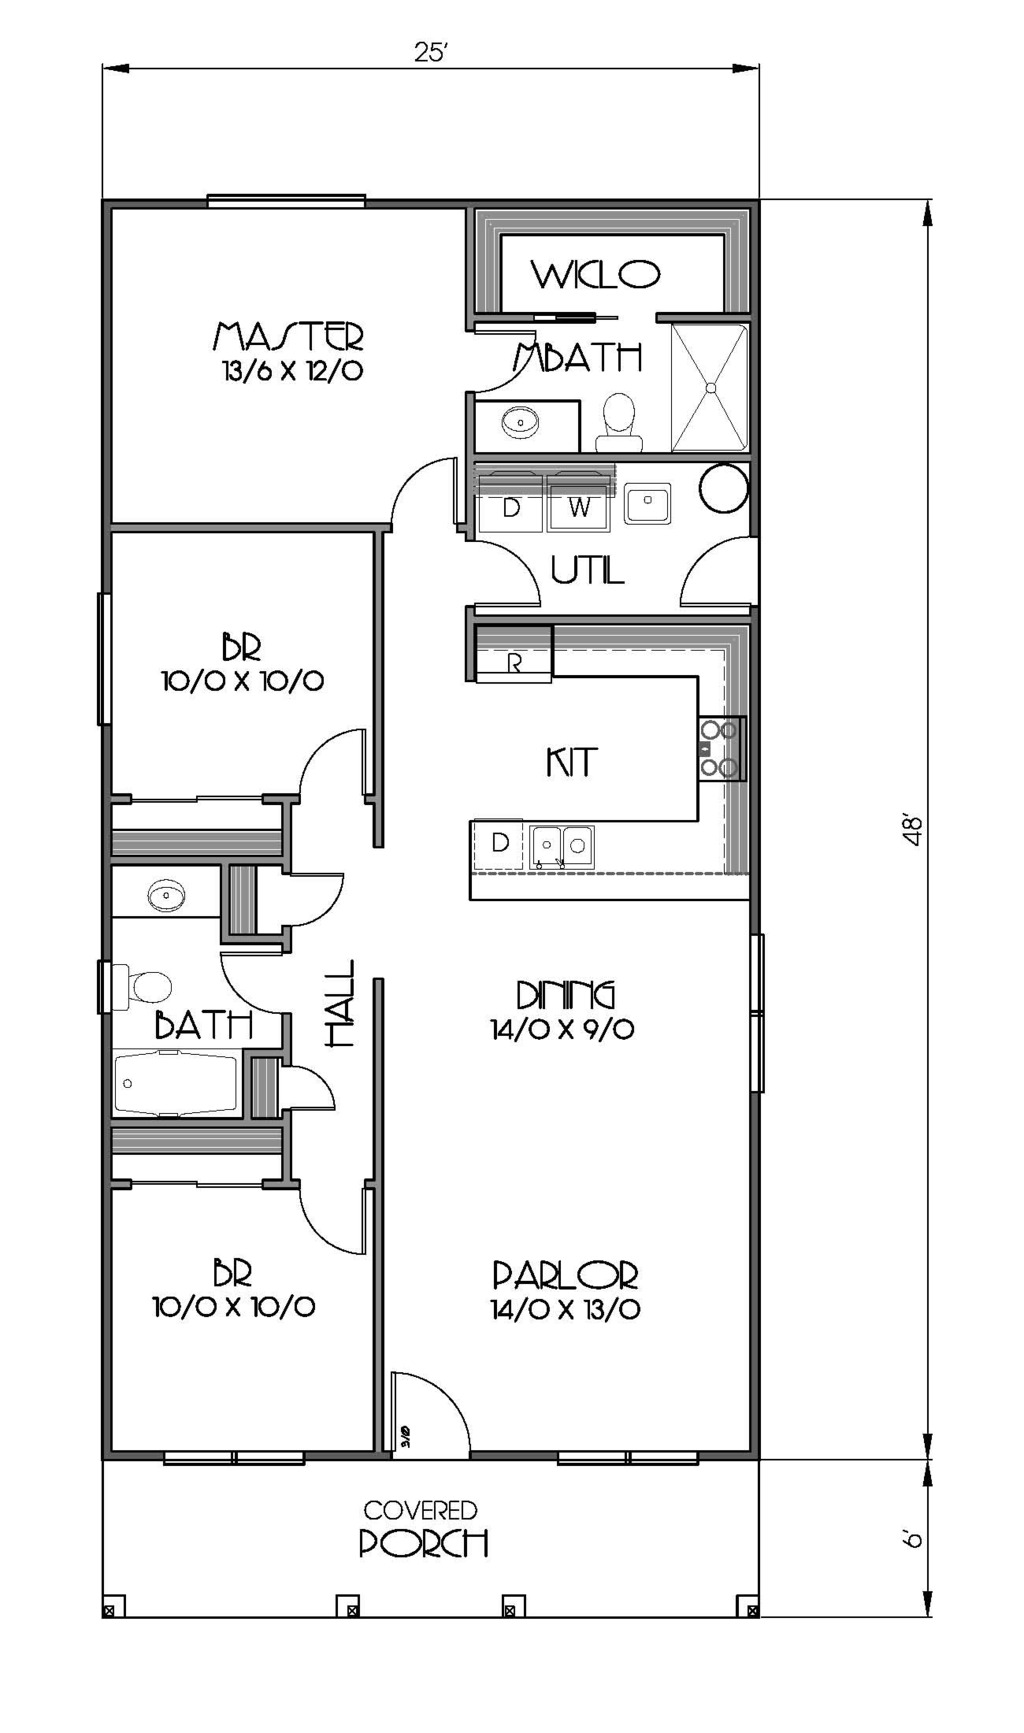door: (386, 1364, 488, 1466), (451, 516, 549, 613), (288, 713, 383, 808), (288, 1170, 377, 1259), (202, 940, 289, 1027), (386, 451, 467, 533), (675, 535, 753, 613), (464, 321, 534, 391), (278, 870, 345, 937), (278, 1055, 332, 1110)
large_sink: (94, 943, 178, 1027), (578, 381, 661, 464)
small_sink: (121, 845, 211, 935), (491, 392, 553, 456)
tub: (116, 1032, 257, 1172)
twin_sink: (499, 808, 607, 916)
